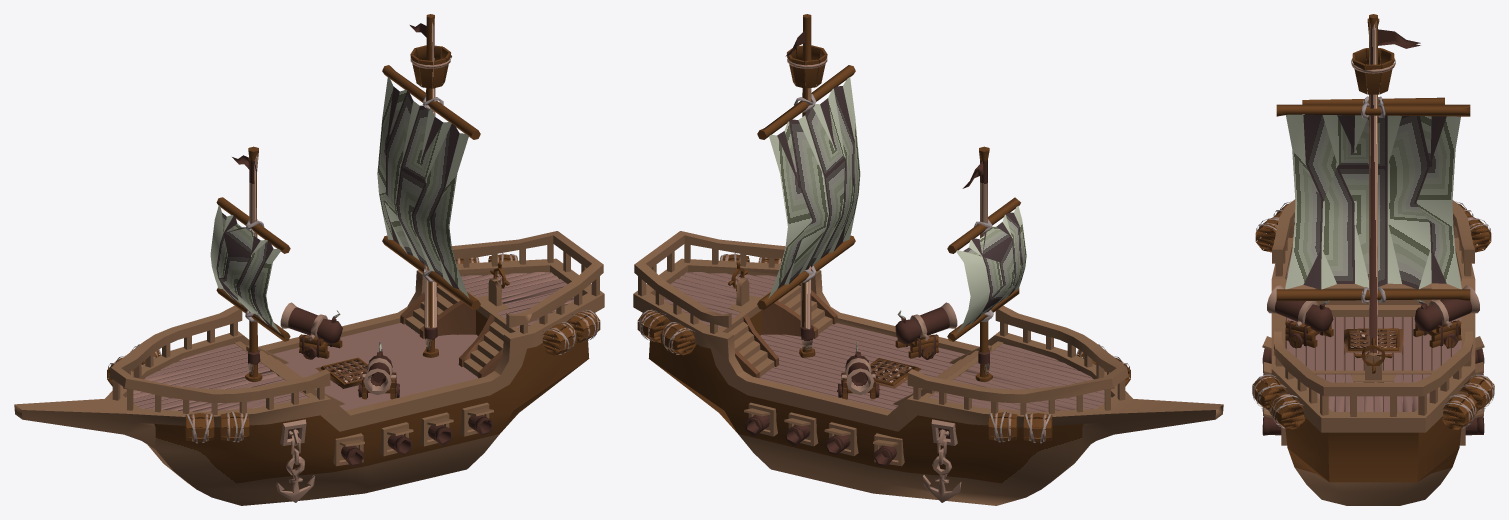
Rendered from Ship_Large.gltf.
The picture shows the model from 3 angles, left to right: view 1: azimuth 30°, elevation 25°; view 2: azimuth 150°, elevation 25°; view 3: azimuth 270°, elevation 25°; orthographic projection. The views are drawn at different scales.
Visible parts, largest first — view 1: Ship_Large; view 2: Ship_Large; view 3: Ship_Large.
Boxes of the visible parts, x1=… form: Ship_Large: x1=14, y1=14, x2=604, y2=505; Ship_Large: x1=633, y1=14, x2=1223, y2=505; Ship_Large: x1=1252, y1=14, x2=1494, y2=505.
Bounding box in the file's own units: 15.39 × 11.48 × 5.28.
1 material, 1 textured.
